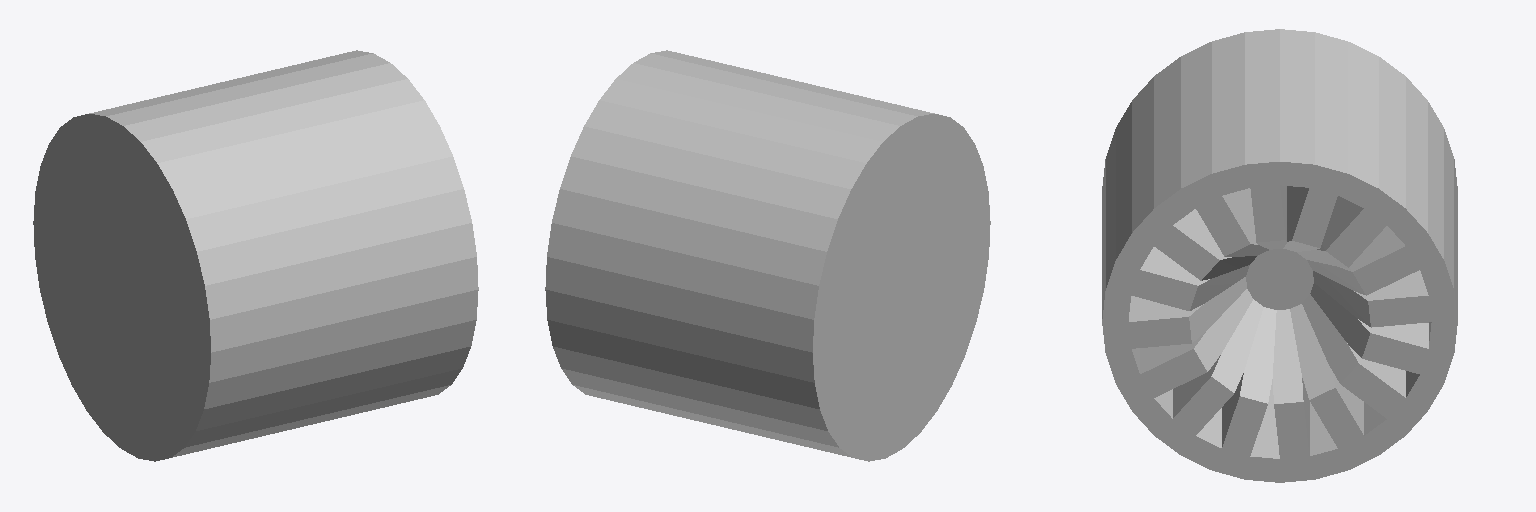
File: roue.obj
3 views of the same model, side by side, from view 1: azimuth 30°, elevation 25°; view 2: azimuth 150°, elevation 25°; view 3: azimuth 270°, elevation 25° (orthographic).
Visible parts, largest first — view 1: Cylindre; view 2: Cylindre; view 3: Cylindre.
Boxes of the visible parts, x1,y1,x2,y2 form: Cylindre: [33, 50, 478, 461]; Cylindre: [545, 50, 990, 461]; Cylindre: [1102, 29, 1457, 482].
Bounding box in the file's own units: 0.7874 × 0.9055 × 0.9.